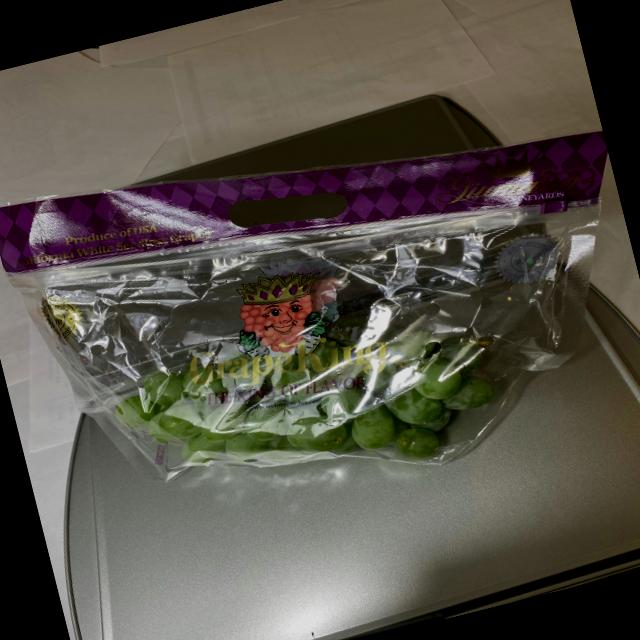grapes: (104, 296, 512, 518)
